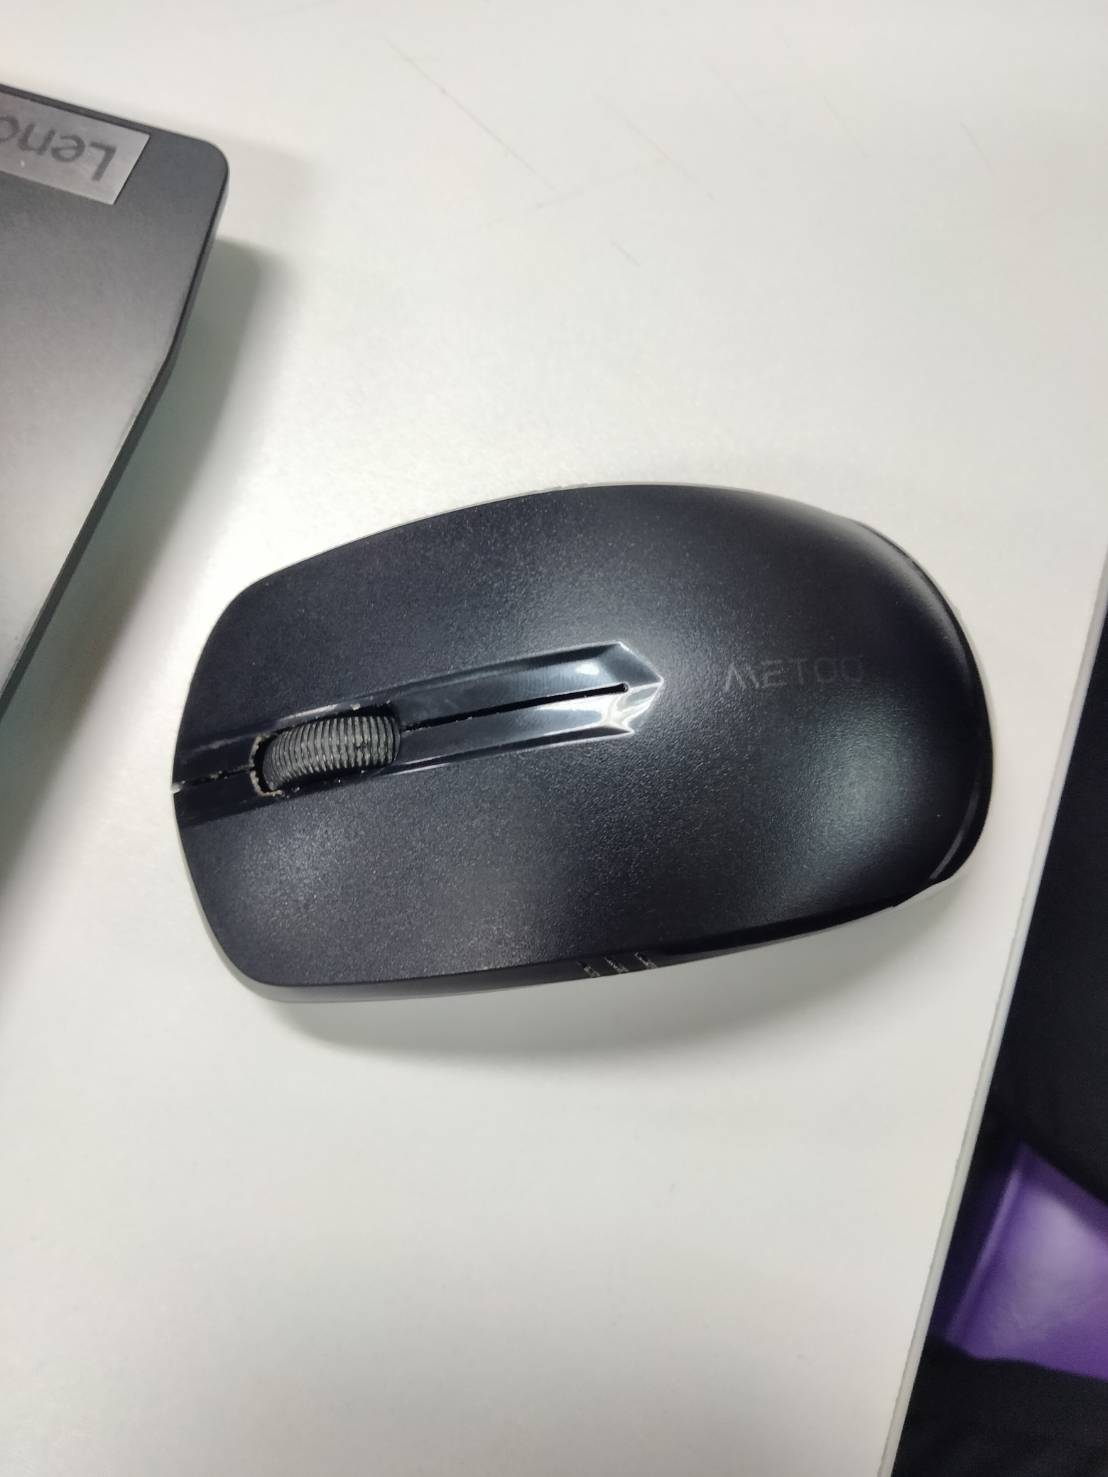mouse: (142, 469, 1034, 997)
